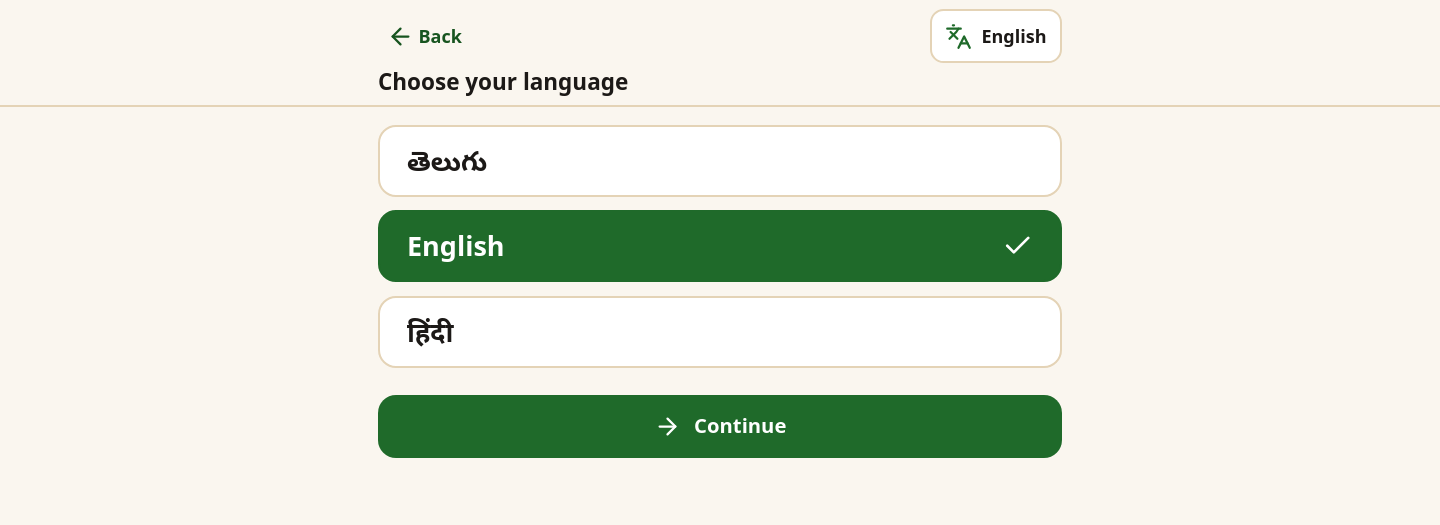
login › asks for the language first on a first visit, then the phone number
The width and height of the screenshot is (1440, 525).
Expected: the heading "Choose your language" is shown, [378, 66, 628, 96]
Click the button "తెలుగు" at (447, 160), box [378, 125, 1062, 197]
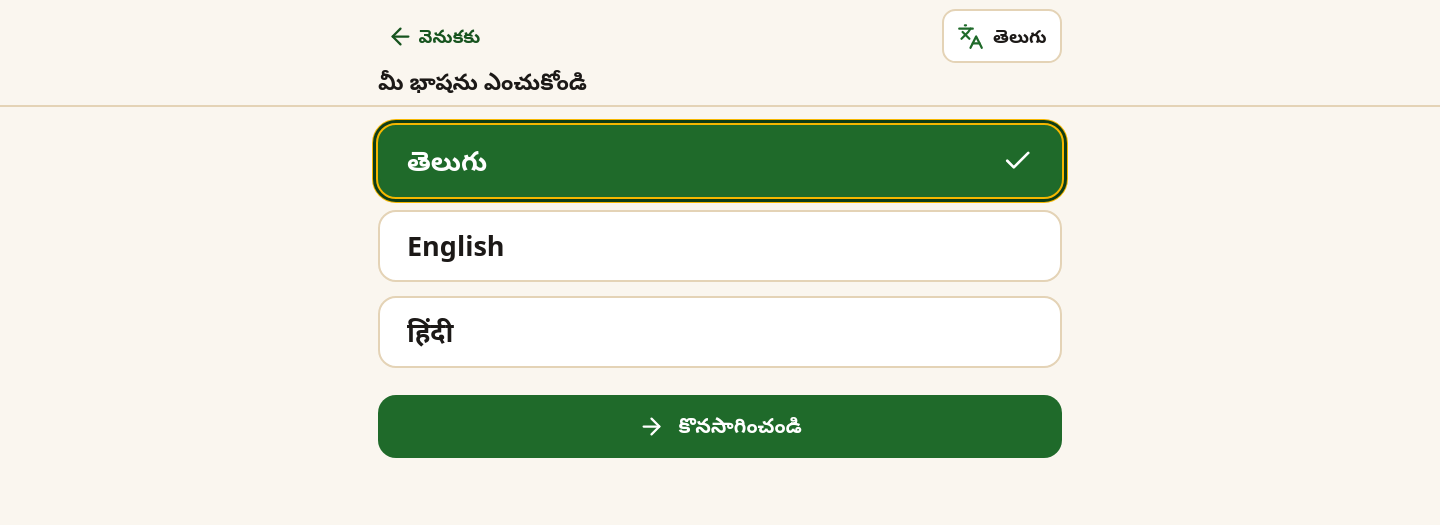
Click the button "కొనసాగించండి" at (720, 426), box [378, 395, 1062, 458]
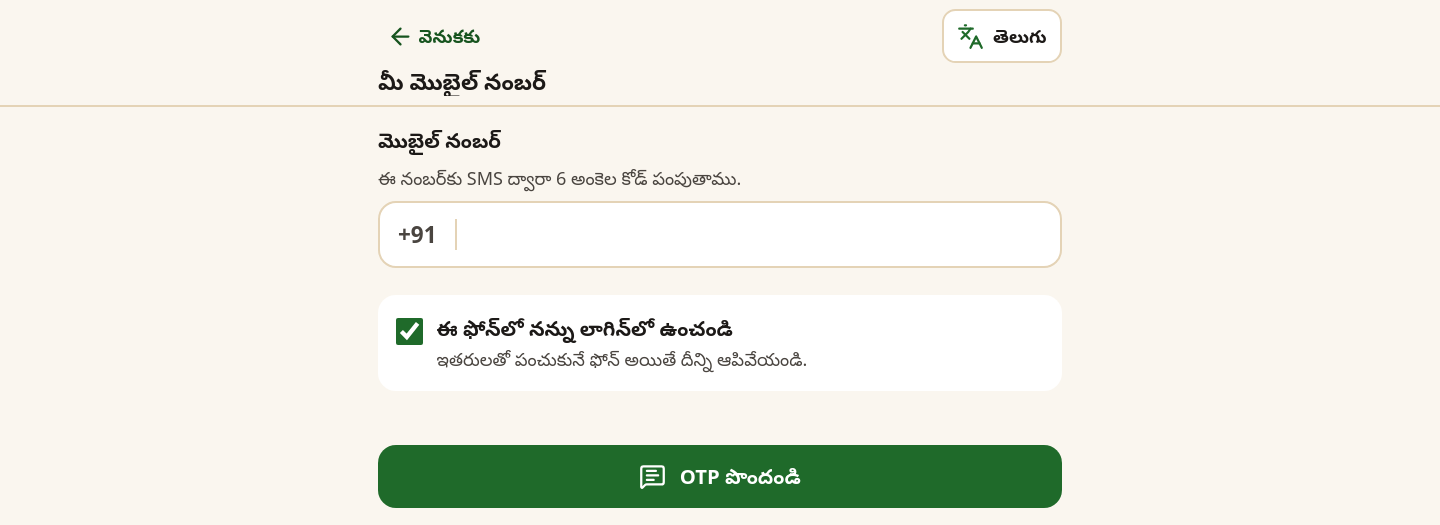
Now the heading "మీ మొబైల్ నంబర్" is shown, box [378, 66, 546, 96]
